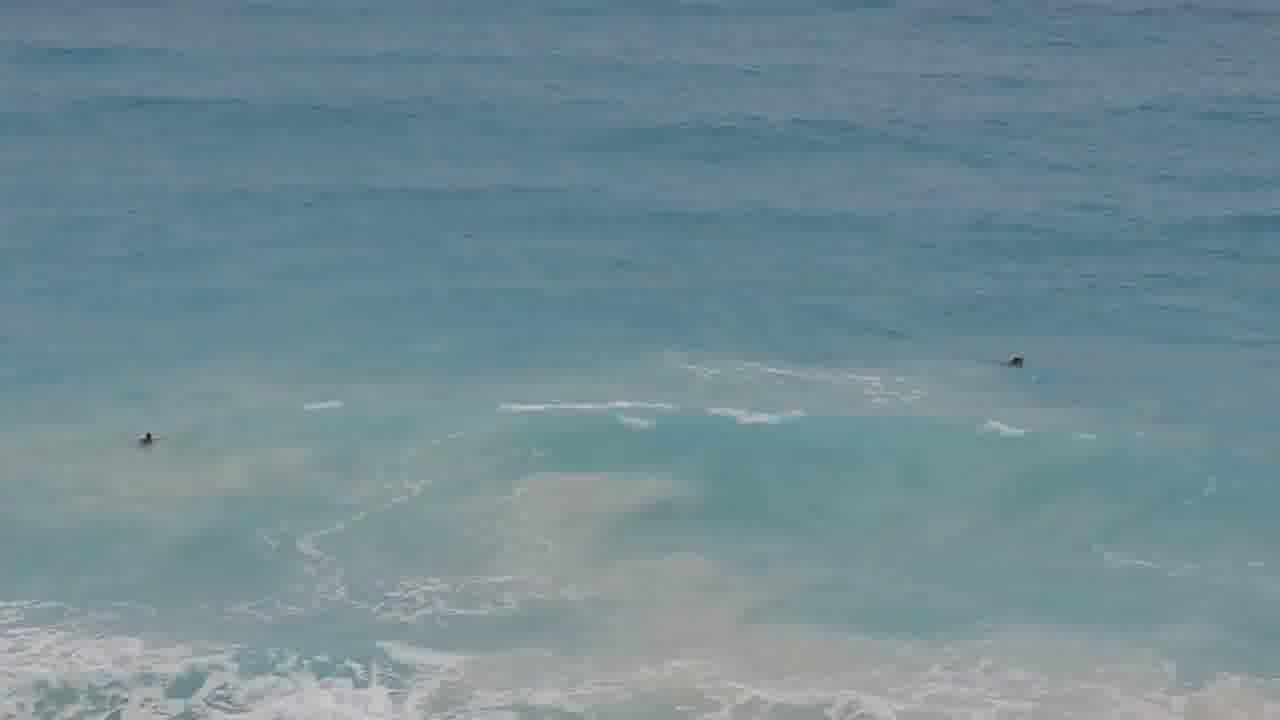swimmer: (987, 340, 1054, 384), (128, 408, 179, 465)
